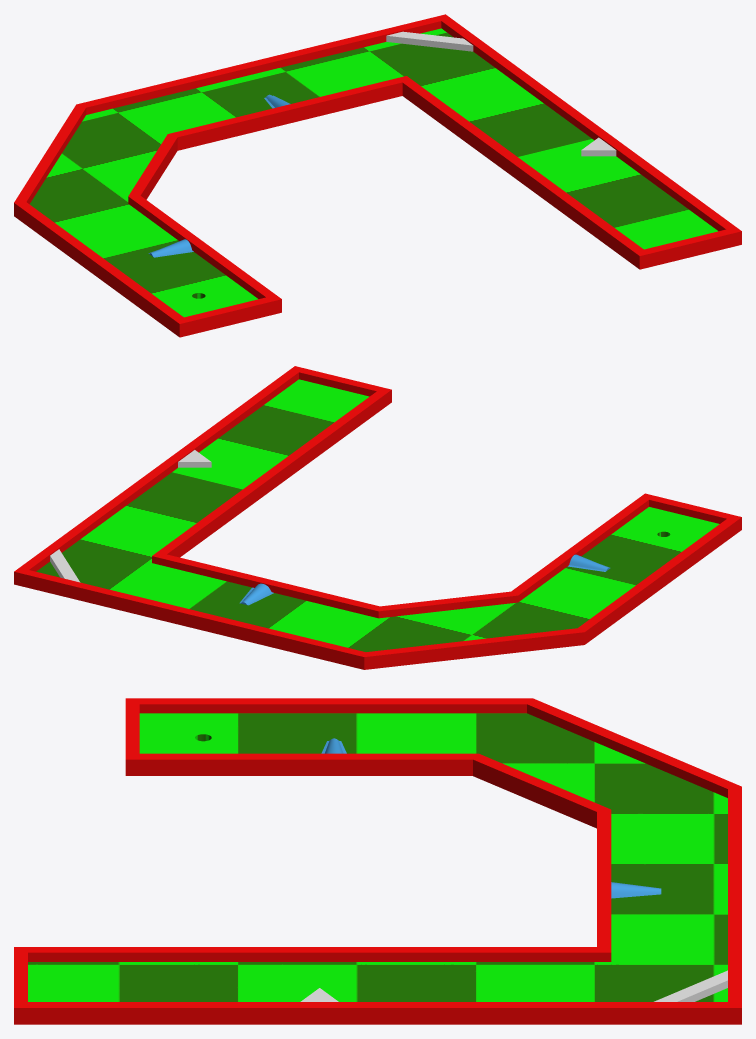
Rendered from Track10.fbx.
3 renders of one model, top to bottom at view 1: azimuth 30°, elevation 25°; view 2: azimuth 150°, elevation 25°; view 3: azimuth 270°, elevation 25°, orthographic. The views are drawn at different scales.
Visible parts, largest first — view 1: Track10_Track, Track10_Boundary, Track10_EdgeExtras, Track10_RoundExtras; view 2: Track10_Track, Track10_Boundary, Track10_EdgeExtras, Track10_RoundExtras; view 3: Track10_Track, Track10_Boundary, Track10_EdgeExtras, Track10_RoundExtras.
Part boxes in pixels (x1,y1,x2,y2): Track10_Track: [29, 28, 717, 317]; Track10_Boundary: [14, 14, 741, 337]; Track10_EdgeExtras: [386, 31, 616, 156]; Track10_RoundExtras: [148, 94, 290, 257]; Track10_Track: [36, 379, 719, 651]; Track10_Boundary: [14, 366, 741, 669]; Track10_EdgeExtras: [50, 450, 211, 582]; Track10_RoundExtras: [239, 554, 610, 605]; Track10_Track: [28, 713, 727, 1001]; Track10_Boundary: [14, 698, 741, 1024]; Track10_EdgeExtras: [300, 970, 727, 1001]; Track10_RoundExtras: [321, 738, 661, 898].
Size of the model in its own units: 440 by 11 by 437.
